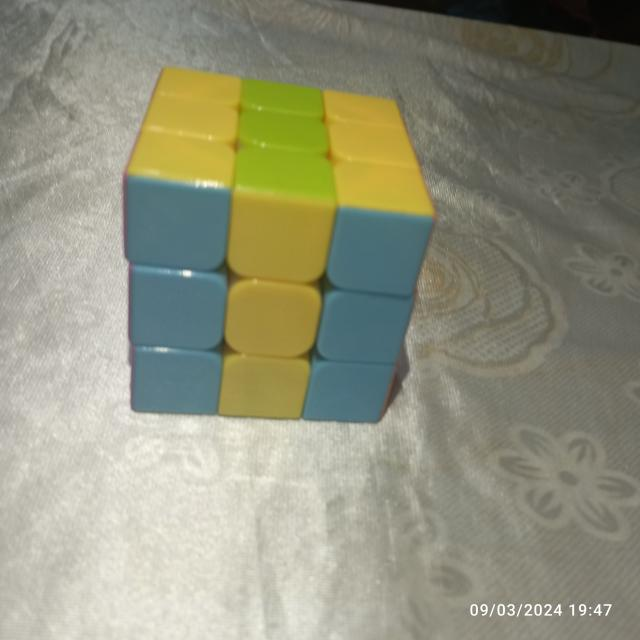Rub: (120, 62, 436, 428)
